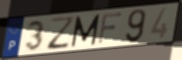3: (24, 19, 46, 52)
4: (149, 7, 169, 40)
9: (125, 8, 148, 43)
F: (97, 11, 124, 46)
M: (70, 13, 102, 48)
Z: (47, 15, 76, 51)
